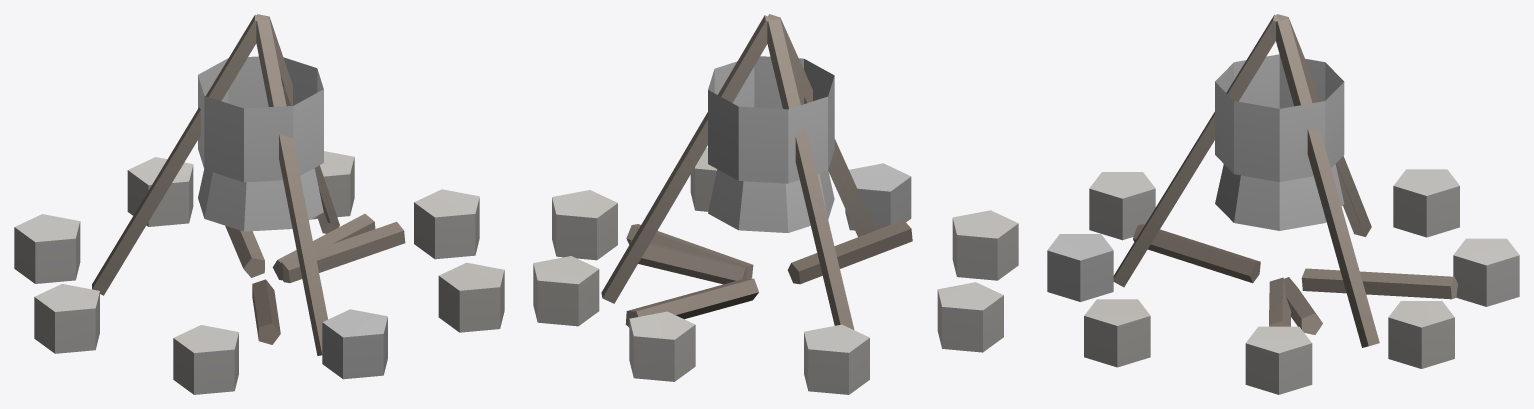
Rendered from campfire_0.glb.
3 views of the same model, side by side, from view 1: azimuth 30°, elevation 25°; view 2: azimuth 150°, elevation 25°; view 3: azimuth 270°, elevation 25° (orthographic).
Visible parts, largest first — view 1: campfire_0; view 2: campfire_0; view 3: campfire_0.
Part boxes in pixels (x1=…): campfire_0: x1=14, y1=14, x2=504, y2=394; campfire_0: x1=533, y1=14, x2=1018, y2=394; campfire_0: x1=1047, y1=14, x2=1519, y2=394.
Size of the model in its own units: 1.86 by 1.12 by 1.75.
